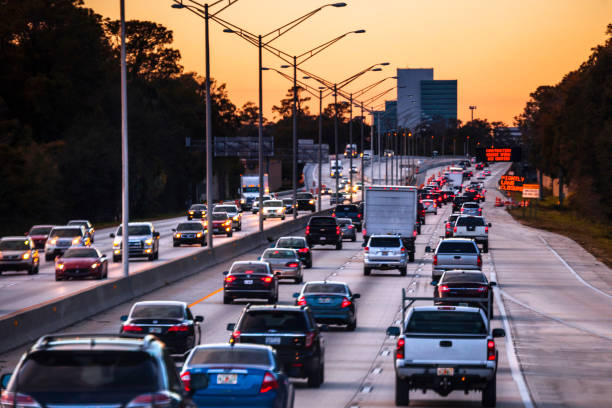car: (5, 340, 178, 408), (395, 305, 498, 408), (233, 302, 323, 390), (180, 346, 286, 408), (124, 302, 197, 353), (298, 281, 358, 331), (438, 269, 494, 321), (223, 261, 278, 303), (430, 237, 480, 283), (364, 235, 408, 278), (55, 246, 109, 279), (113, 222, 159, 260), (262, 249, 304, 284), (455, 216, 491, 253), (45, 225, 87, 256), (1, 238, 39, 271), (306, 217, 341, 250), (172, 220, 208, 248), (277, 237, 310, 265), (335, 205, 361, 231), (211, 212, 234, 239), (264, 201, 284, 222), (187, 202, 208, 221), (293, 193, 315, 211), (461, 202, 481, 219), (466, 187, 485, 200), (422, 200, 436, 214), (330, 193, 344, 206), (348, 165, 359, 174)
truck: (364, 186, 417, 258), (238, 175, 268, 212), (444, 170, 463, 194), (331, 159, 343, 178), (344, 144, 358, 159)
